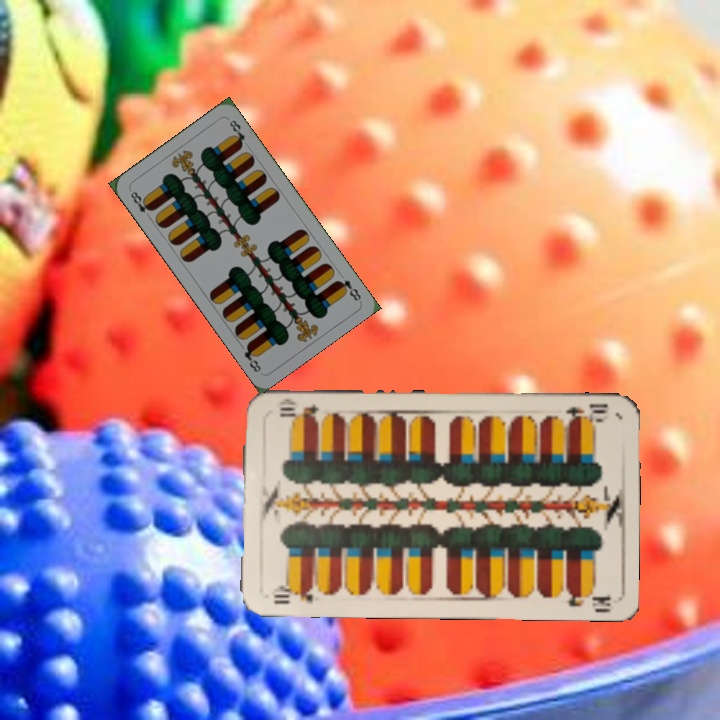E10: (562, 399, 610, 427), (266, 581, 315, 607)
E8: (126, 187, 155, 222), (332, 276, 364, 303)
